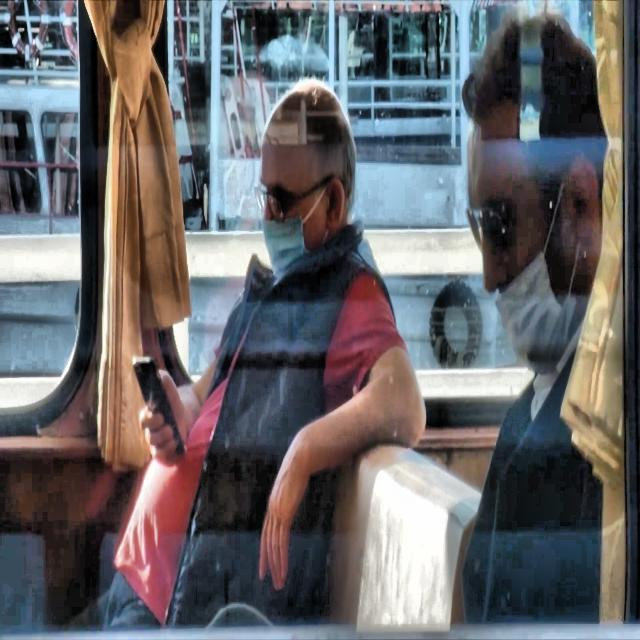Phone: (131, 352, 184, 470)
